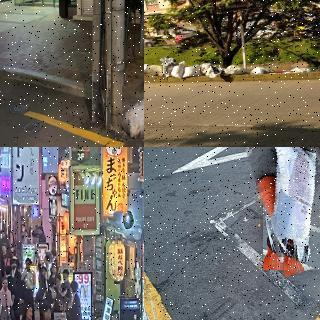Garbage: (253, 147, 320, 273), (120, 84, 144, 140), (158, 55, 177, 77), (171, 61, 187, 80), (225, 65, 250, 76), (144, 64, 163, 78), (251, 66, 278, 75), (183, 65, 202, 77)
